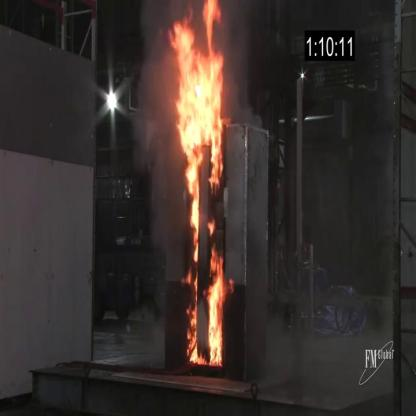fire: (164, 0, 234, 374)
